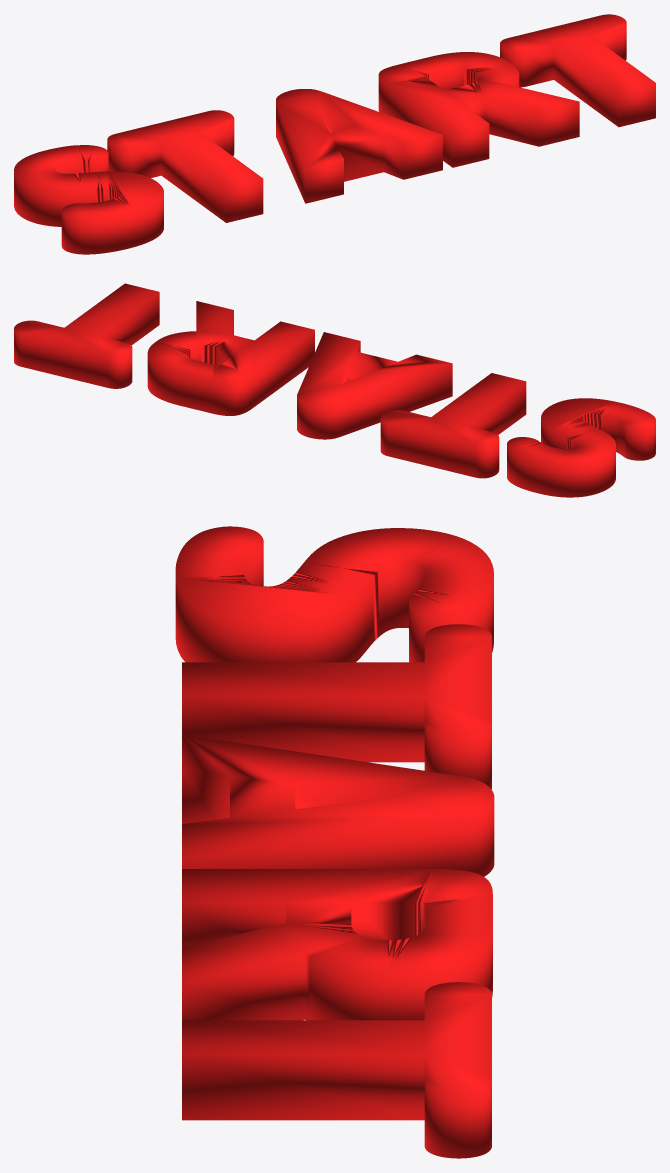
File: Start.obj
3 renders of one model, top to bottom at view 1: azimuth 30°, elevation 25°; view 2: azimuth 150°, elevation 25°; view 3: azimuth 270°, elevation 25°, orthographic. The views are drawn at different scales.
Visible parts, largest first — view 1: START; view 2: START; view 3: START.
Part boxes in pixels (x1=…): START: x1=14, y1=14, x2=655, y2=254; START: x1=14, y1=283, x2=655, y2=497; START: x1=175, y1=526, x2=494, y2=1158.
Bounding box in the file's own units: 7.69 × 0.419 × 1.83.
